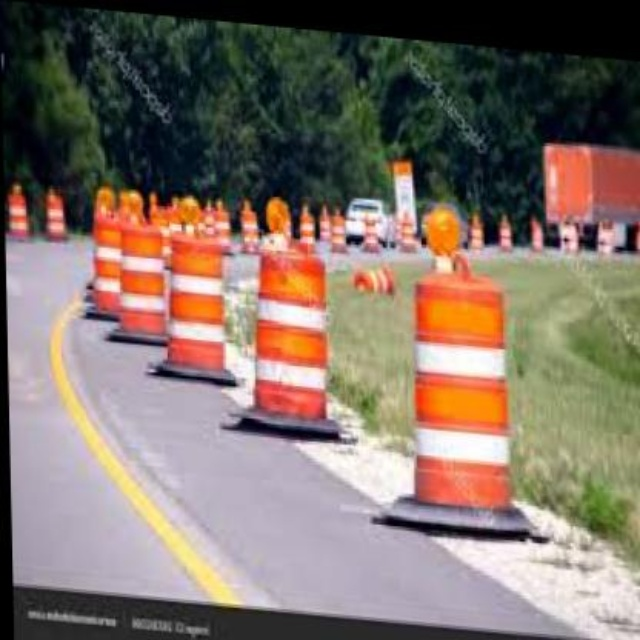obstacle: (409, 255, 510, 514), (247, 243, 327, 413), (164, 233, 222, 368)
